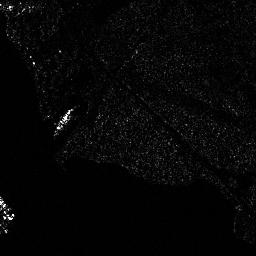ship: (54, 107, 74, 135)
